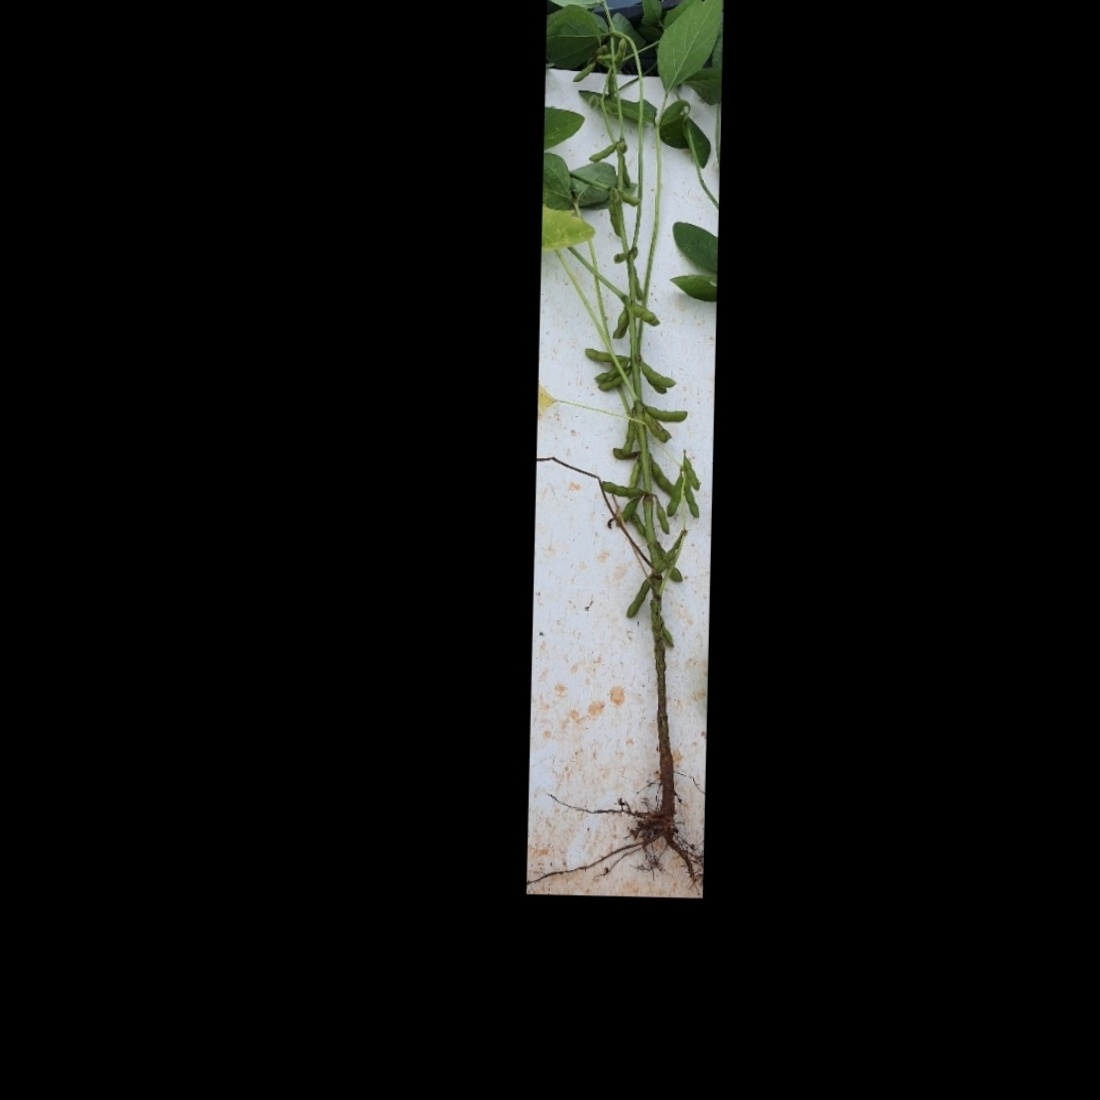pod: (624, 572, 652, 622), (645, 455, 675, 495), (680, 473, 701, 521), (641, 402, 688, 423), (664, 473, 684, 519), (600, 479, 645, 500), (656, 614, 680, 651), (682, 449, 701, 490), (613, 499, 639, 526), (568, 59, 595, 85), (587, 141, 617, 163), (652, 498, 670, 534), (612, 36, 628, 66)
soy: (544, 18, 705, 861)
